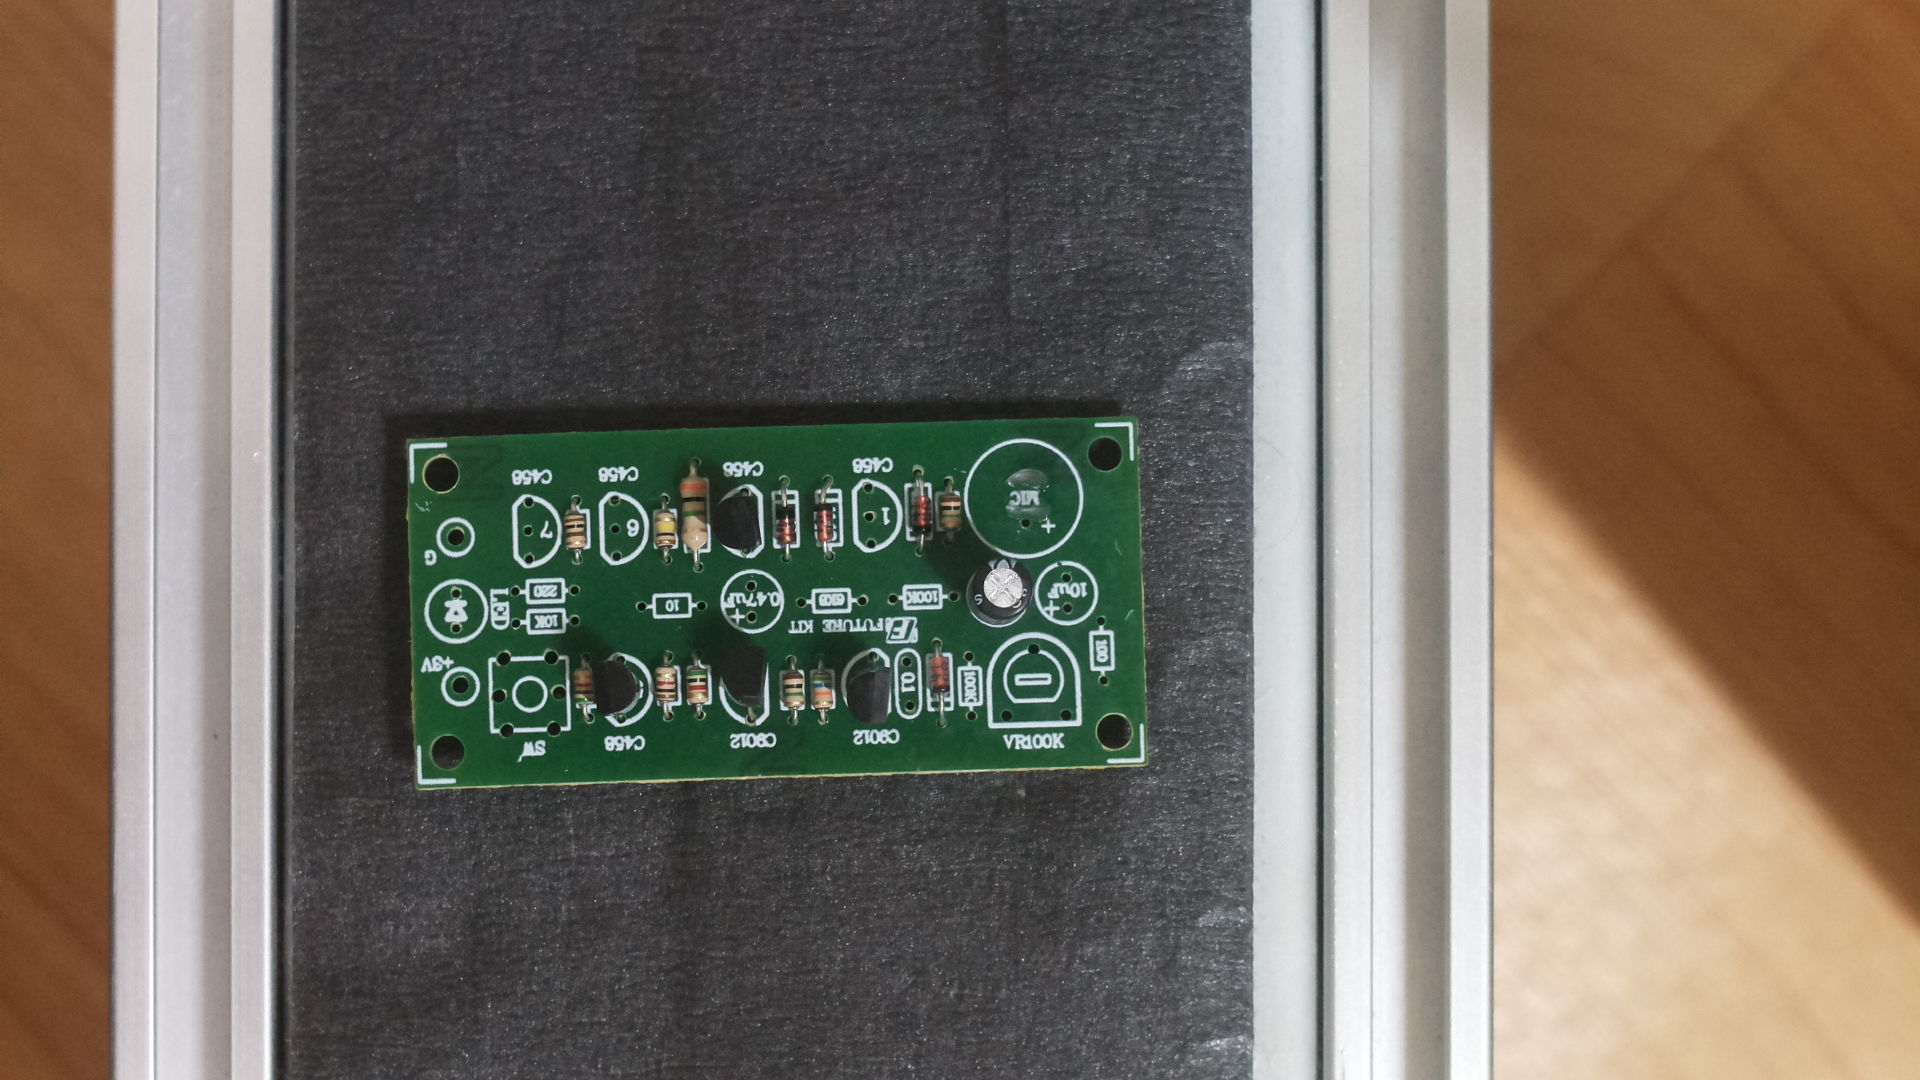A_Missing_part: (386, 405, 1164, 811)
